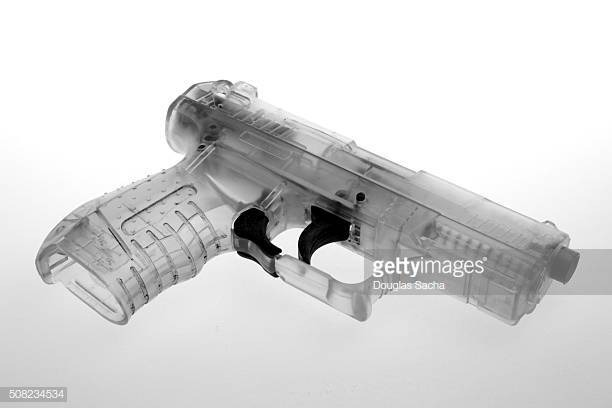gun: (34, 72, 580, 368)
